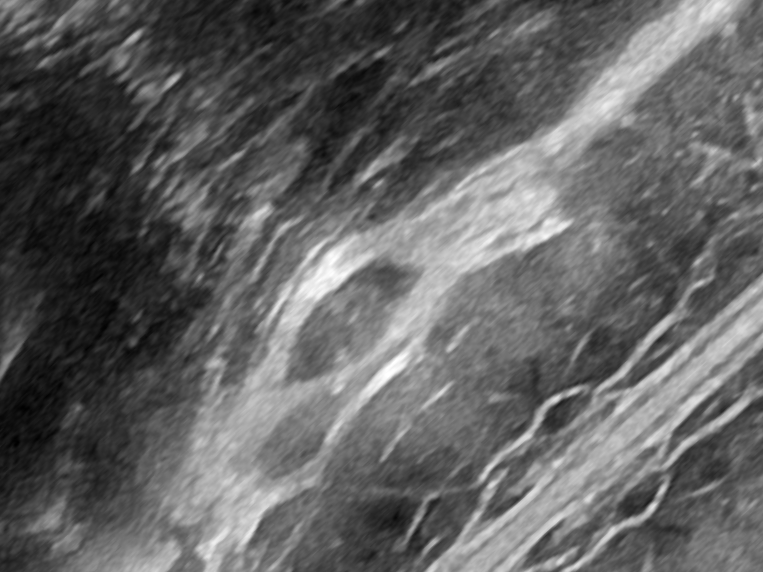Benign: (55, 0, 662, 210)
